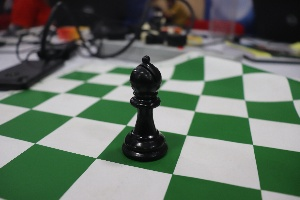black_bishop: (121, 49, 169, 163)
